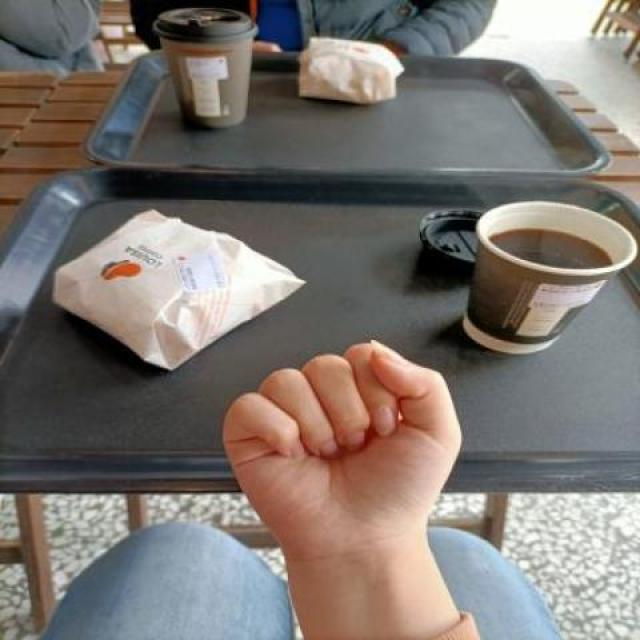Closed Hand: (218, 333, 465, 579)
